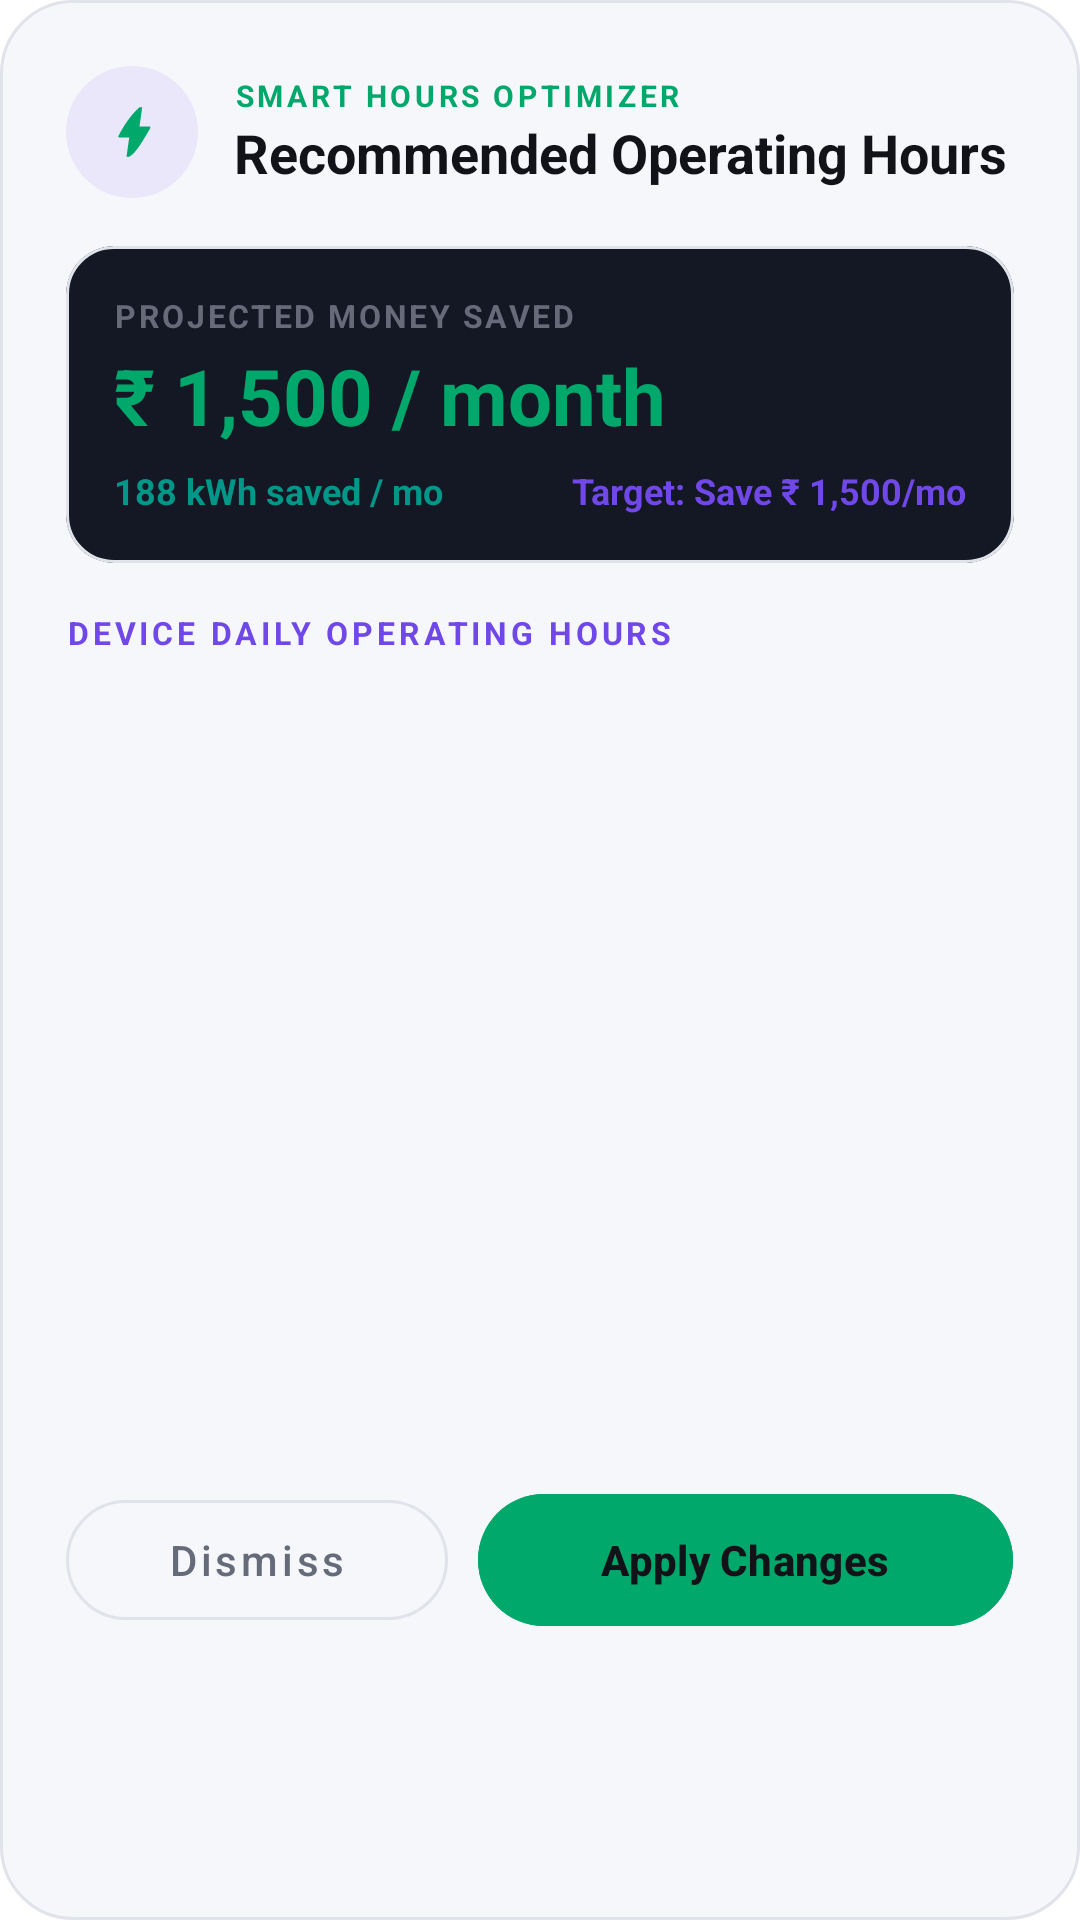

Screen size 1080*1920. Icon name, then its center in pixels as (x,y):
bolt: (134,132)
